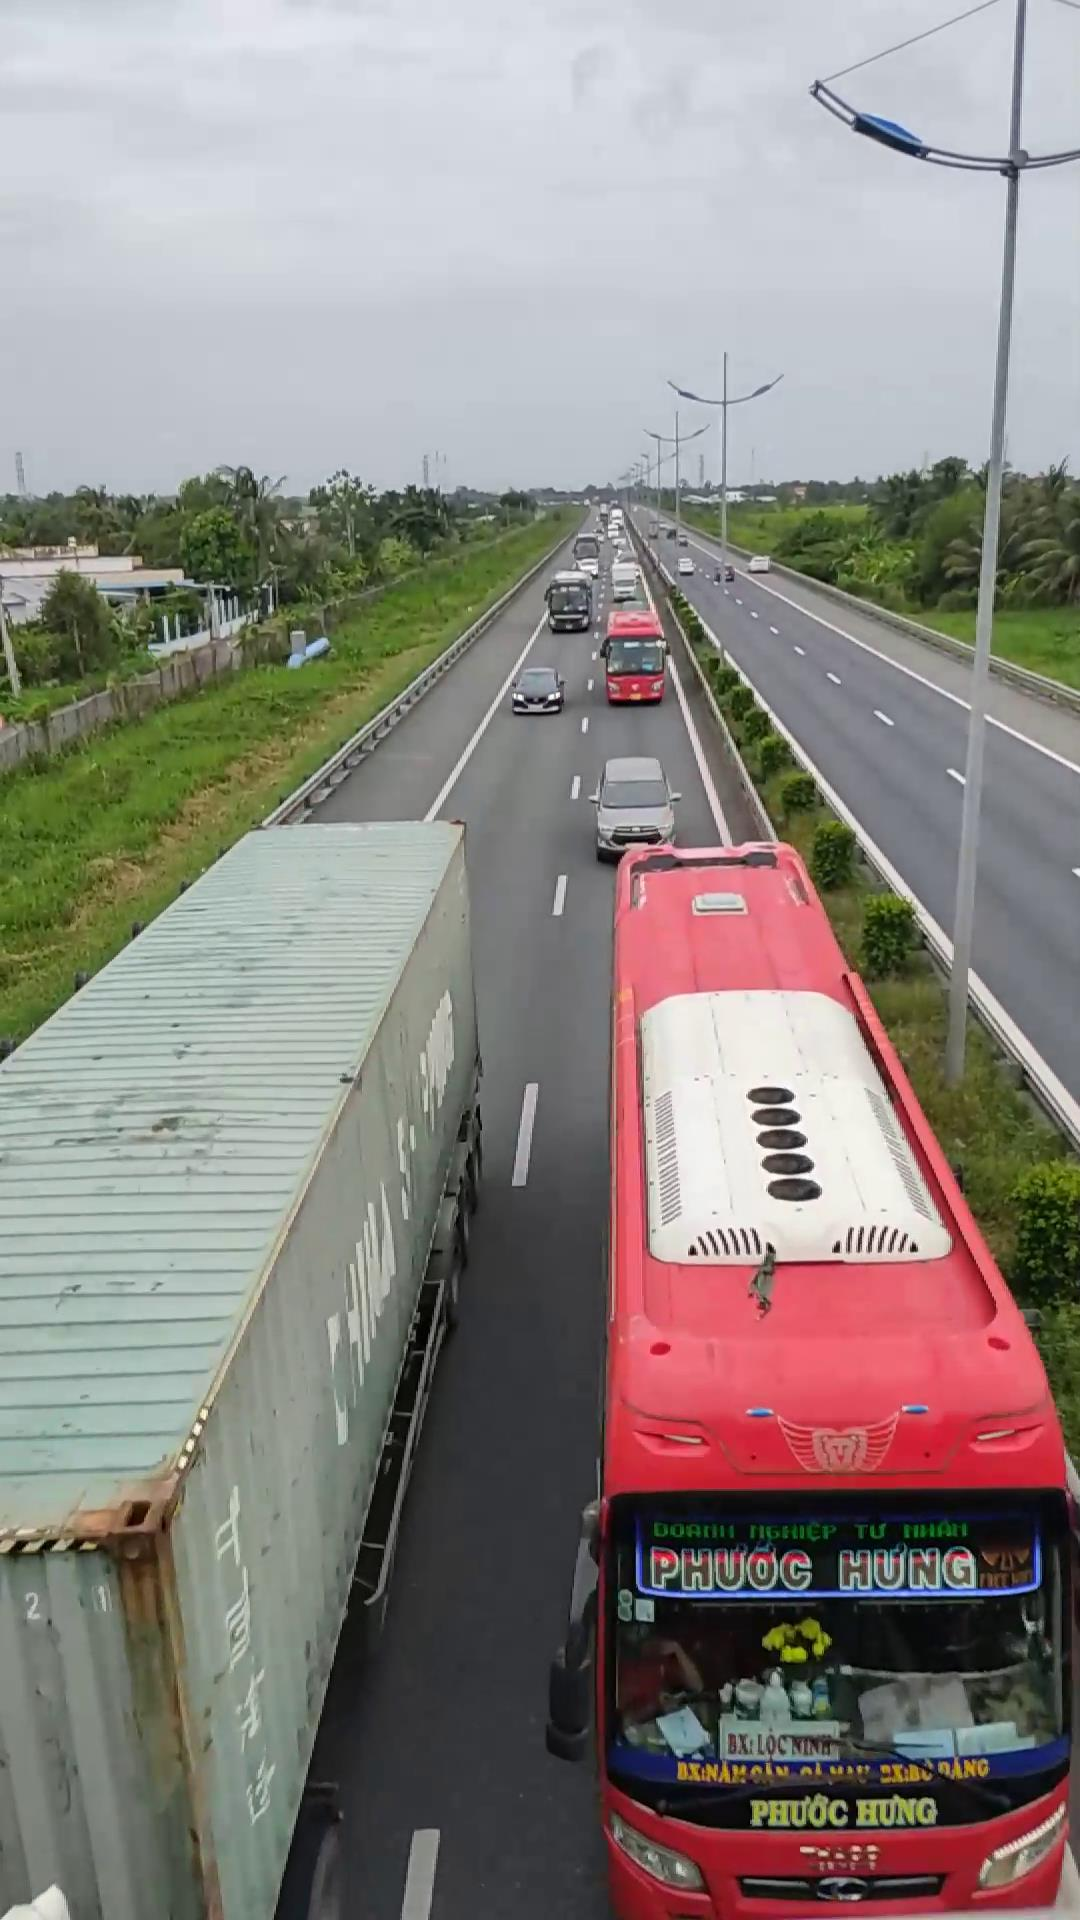bus: (597, 833, 1080, 1920)
car: (587, 756, 679, 858)
container: (0, 812, 477, 1916)
